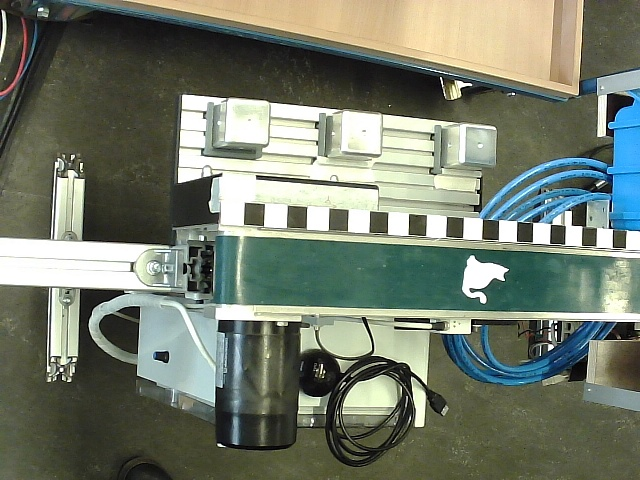cat: (461, 255, 509, 304)
